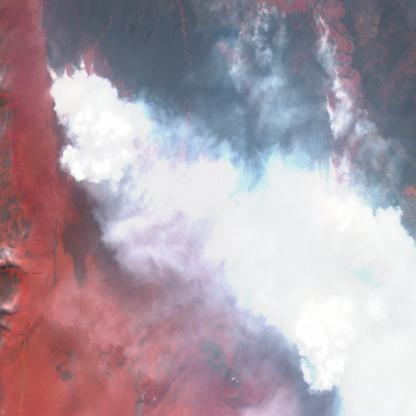fire: (37, 0, 362, 322)
